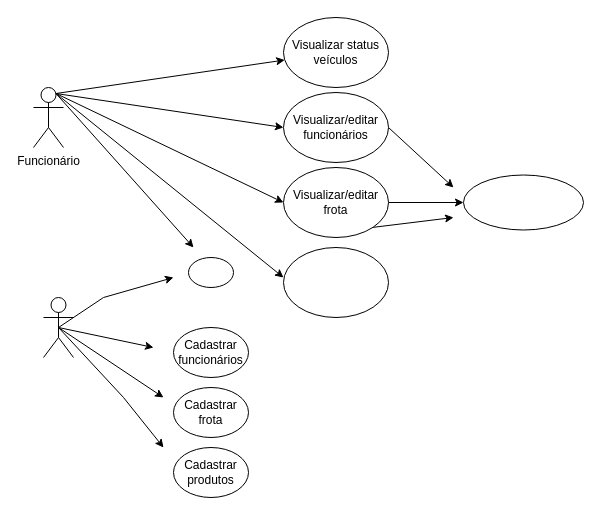
This 601x515 diagram has some shape labels left out. Here are the shapes that lost their labels. From the top down, the centre of each, then its label:
At point (523, 202): "Alertar mudanças críticas".
At point (211, 272): "Login".
At point (335, 282): "Visualizar/editar produtos".
At point (58, 327): "Administrador".
